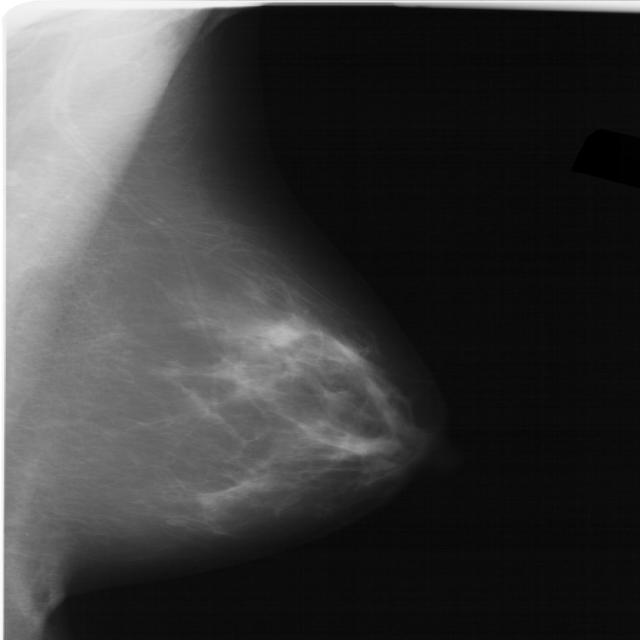tumour: (261, 318, 300, 347)
